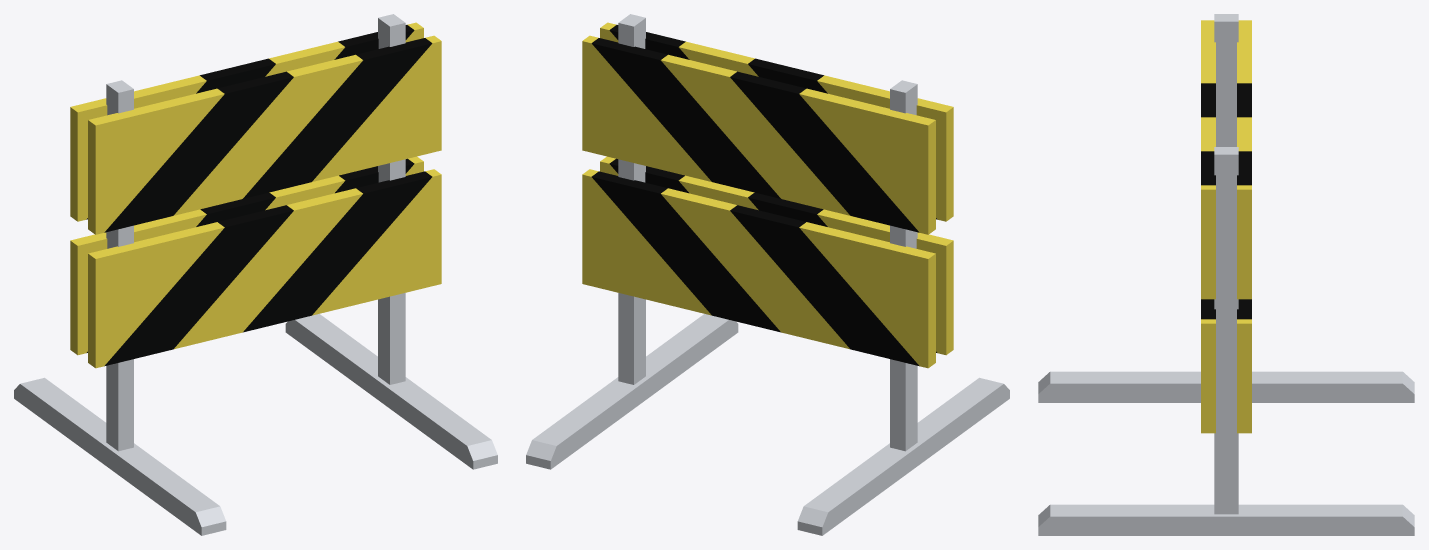
The model's file is Wood_Road_Block_Small_008.glb.
3 renders of one model, left to right at view 1: azimuth 30°, elevation 25°; view 2: azimuth 150°, elevation 25°; view 3: azimuth 270°, elevation 25°, orthographic.
Parts seen in each view (by area): view 1: Wood Road Block Small.008; view 2: Wood Road Block Small.008; view 3: Wood Road Block Small.008.
Part boxes in pixels (box(x1,y1,x2,y2)): Wood Road Block Small.008: box(14, 14, 497, 535); Wood Road Block Small.008: box(526, 14, 1009, 535); Wood Road Block Small.008: box(1038, 14, 1414, 535).
Size of the model in its own units: 6.62 by 6.91 by 6.21.
Materials: 1 (1 with a texture image).
